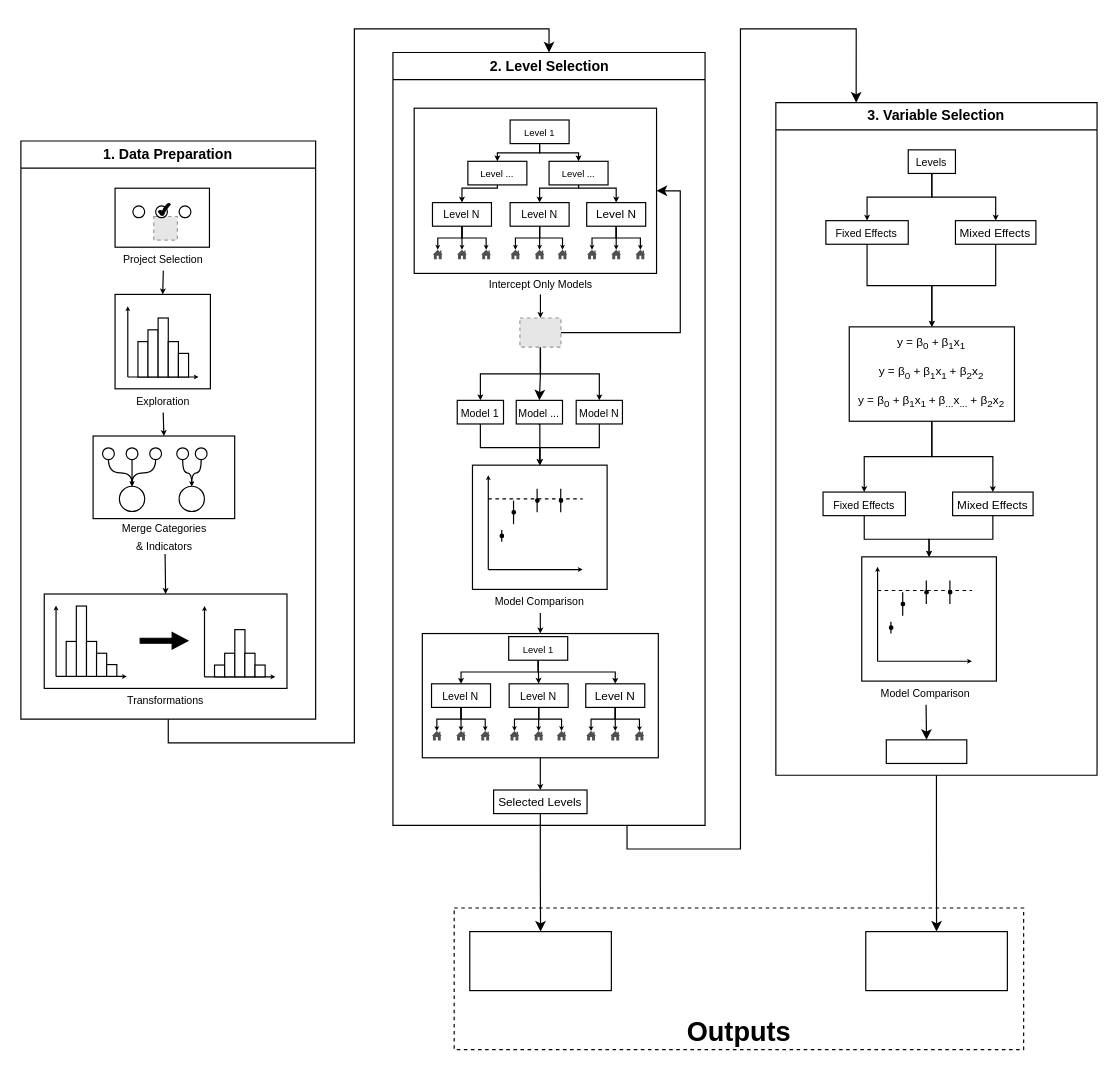
Some shapes in this 1117 by 1070 pixel diagram are drawn without their labels. Grey dashed boxes stand in for pictures. Here are the shapes that lost their labels. From the top down, the centre of each, then its label:
the point at 926,751: Final Model
the point at 540,960: Variance Components Model
the point at 936,960: Mixed Effects Model
